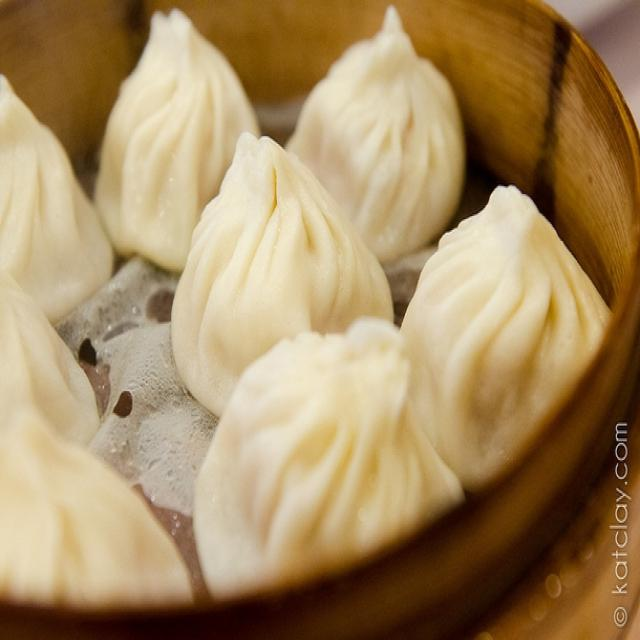带馅早点: (8, 13, 606, 607)
